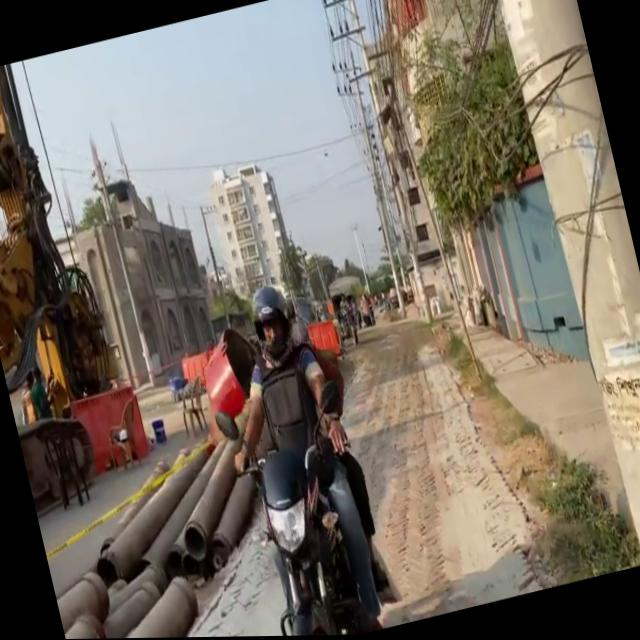Downstairs: (304, 318, 342, 362)
Garbage: (32, 426, 282, 640)
Garbage-bin: (195, 271, 398, 638)
Light-pole: (483, 0, 640, 570)
Pothole: (312, 279, 554, 629), (453, 276, 634, 561)
Traffic-cone: (0, 50, 156, 510)
